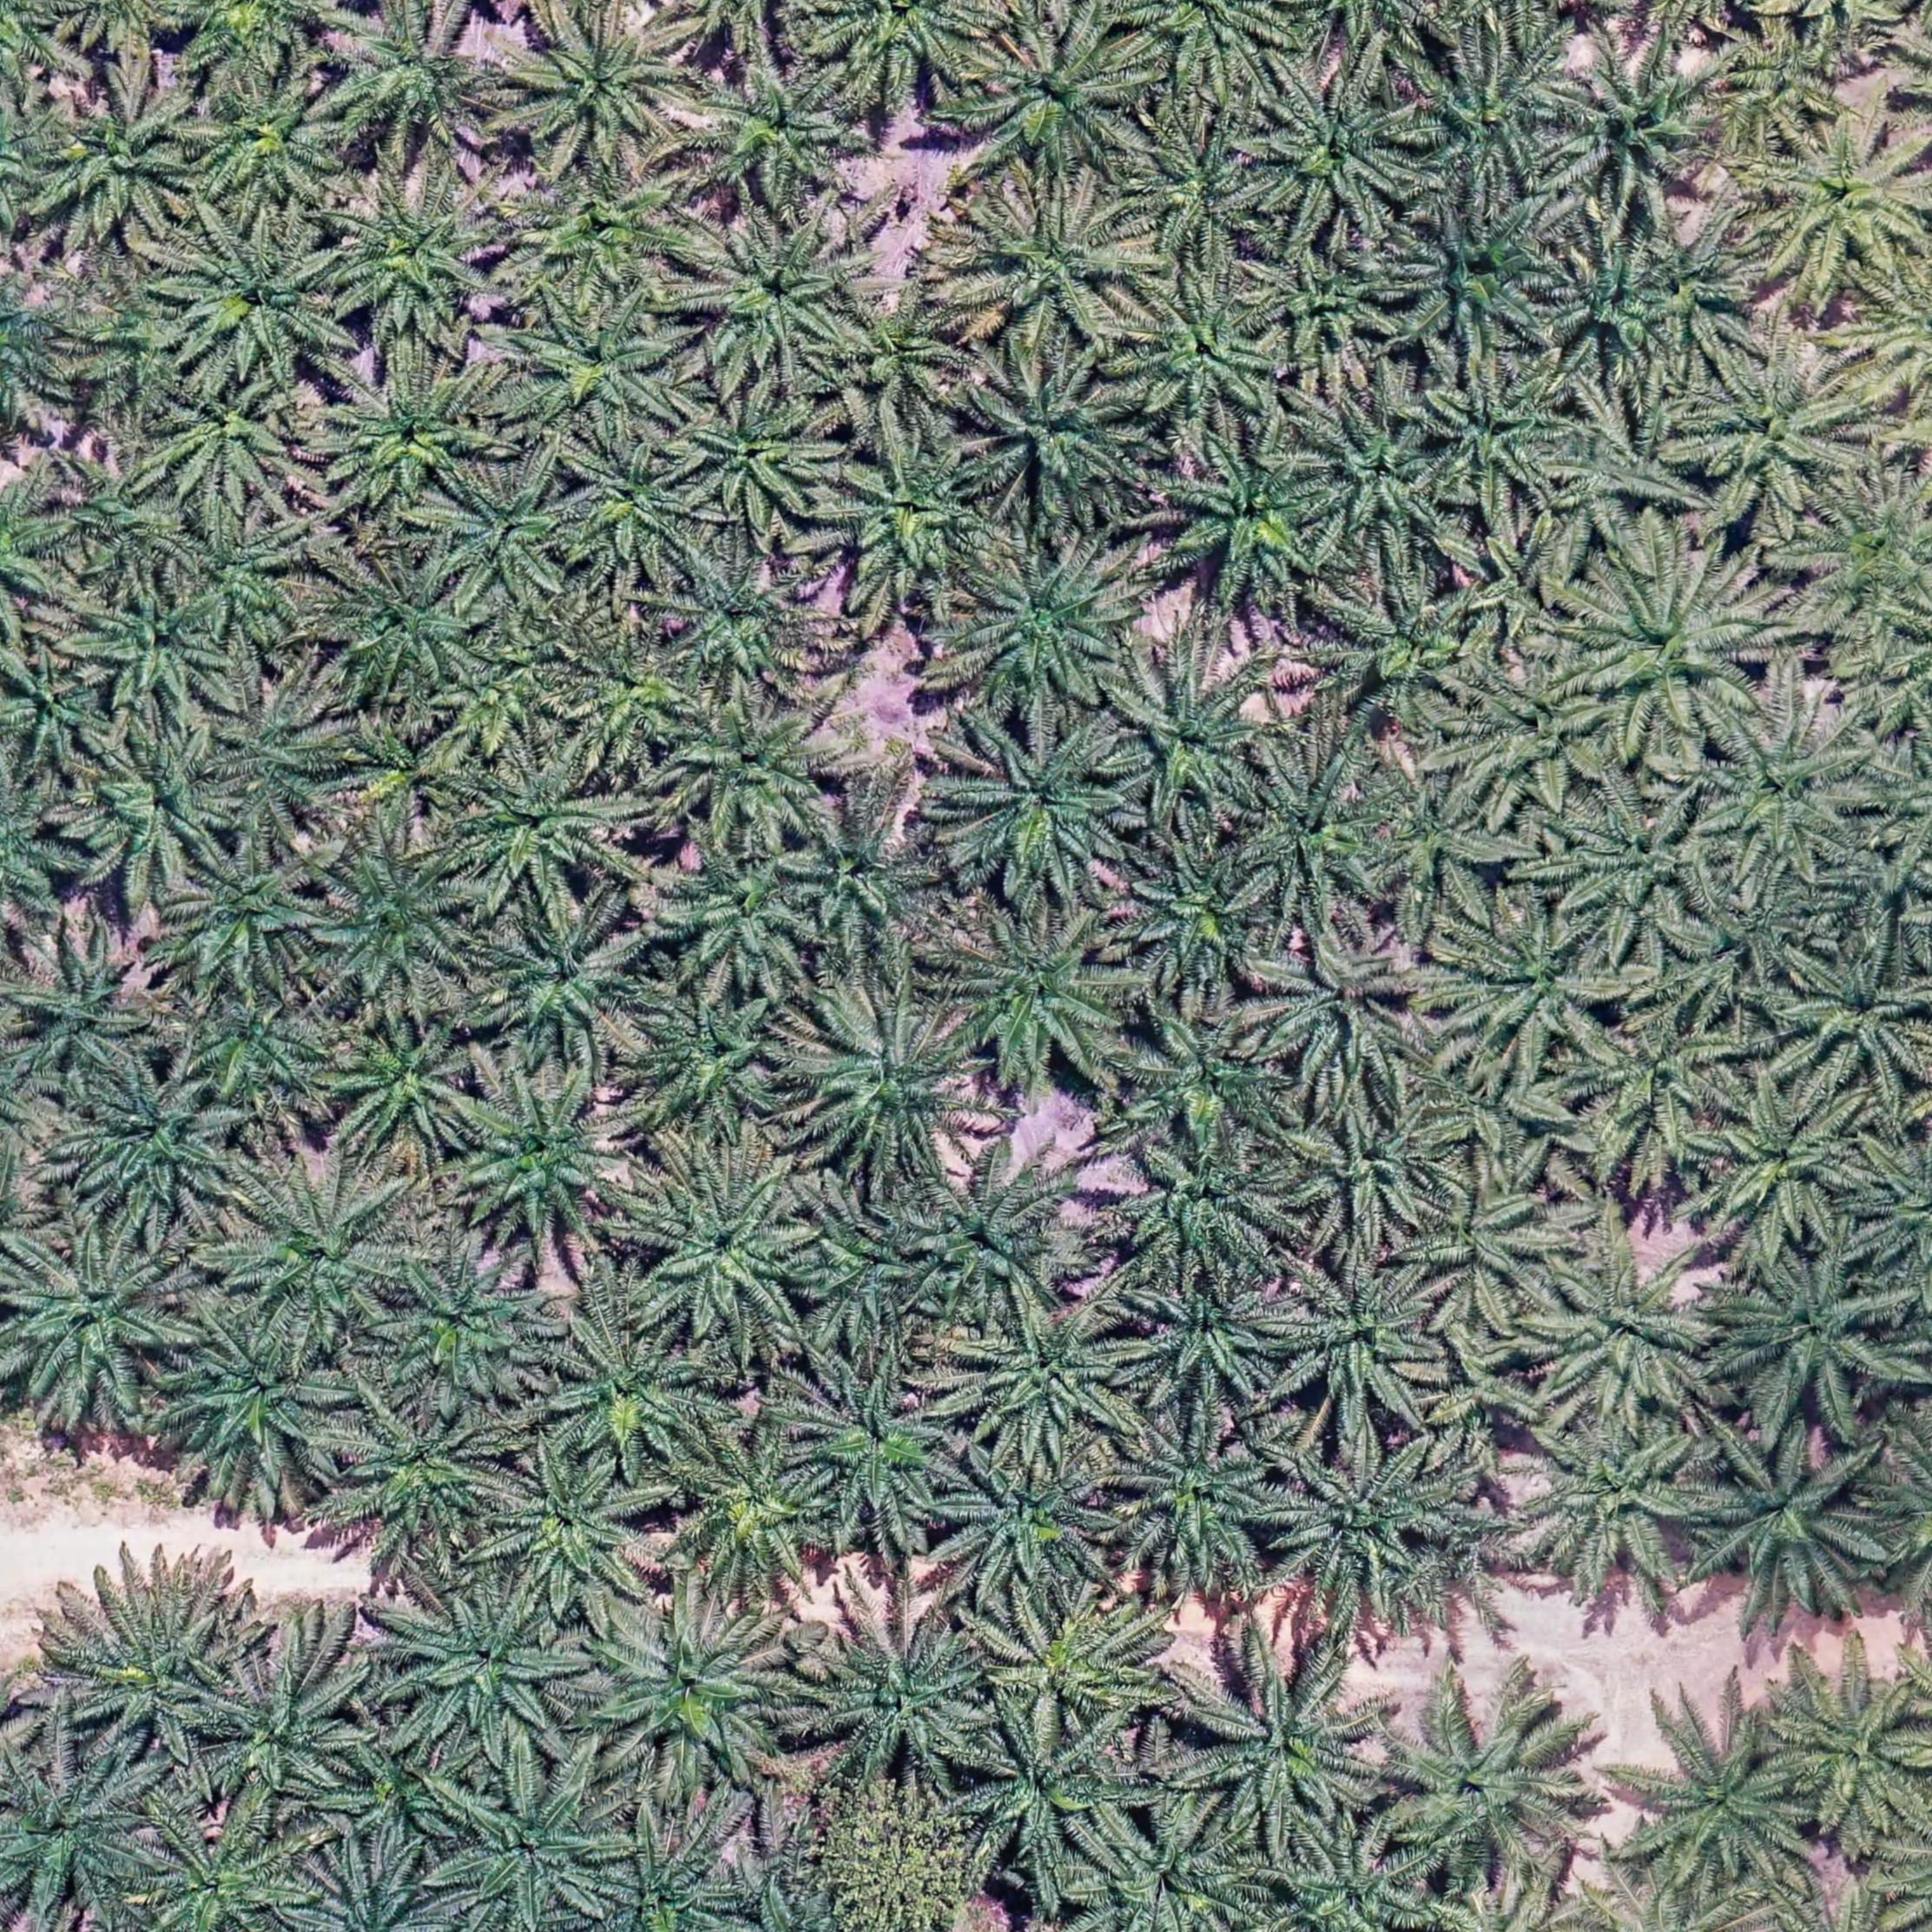palmtree: (1679, 1419, 1897, 1629), (1378, 1686, 1596, 1890), (1569, 547, 1783, 752), (586, 1591, 800, 1794), (1178, 1637, 1387, 1844), (1265, 1431, 1481, 1629), (1507, 1407, 1725, 1601), (1522, 1235, 1725, 1435), (1614, 1706, 1819, 1902), (1707, 1249, 1913, 1438), (628, 1157, 826, 1350), (941, 717, 1145, 902), (221, 1161, 421, 1348), (893, 1152, 1093, 1338), (4, 1228, 198, 1417), (789, 989, 984, 1178), (798, 1603, 994, 1790), (389, 1583, 593, 1764), (161, 1313, 359, 1497), (950, 901, 1143, 1088), (1688, 341, 1877, 527), (1560, 989, 1746, 1178), (1104, 1408, 1297, 1591), (787, 1355, 971, 1545), (957, 538, 1150, 718), (1698, 695, 1884, 881), (504, 143, 709, 311), (451, 1070, 642, 1251), (957, 188, 1155, 361), (1748, 113, 1932, 299), (163, 212, 352, 393), (1543, 37, 1732, 218), (959, 1713, 1157, 1882), (814, 432, 1000, 610), (1435, 902, 1626, 1076), (1102, 1122, 1302, 1286), (1272, 1258, 1456, 1437), (1157, 433, 1343, 610), (327, 168, 515, 343), (685, 211, 872, 384), (1387, 196, 1575, 370), (511, 7, 708, 172), (1253, 60, 1435, 237), (964, 14, 1152, 186), (65, 1578, 244, 1757), (311, 837, 490, 1014), (1700, 1076, 1879, 1253), (472, 892, 653, 1067), (968, 350, 1152, 522), (955, 1299, 1145, 1465), (495, 285, 688, 448), (1231, 743, 1405, 924), (73, 724, 253, 897), (660, 686, 847, 853), (1102, 653, 1281, 826), (663, 1426, 844, 1596), (941, 1444, 1131, 1605), (1295, 400, 1470, 573), (324, 354, 508, 518), (327, 4, 515, 165), (1260, 929, 1431, 1104), (1313, 568, 1491, 736), (628, 982, 812, 1145), (37, 67, 209, 241), (1116, 269, 1292, 439), (375, 1244, 556, 1408), (444, 1762, 625, 1927), (60, 1067, 242, 1230), (1445, 648, 1617, 819), (1403, 1162, 1576, 1332), (1401, 37, 1582, 200), (688, 50, 870, 211), (1769, 1656, 1932, 1835), (541, 1318, 722, 1479), (485, 1447, 662, 1610), (1283, 1088, 1463, 1247), (455, 748, 633, 906), (982, 1594, 1168, 1744), (1552, 786, 1711, 961), (338, 1399, 515, 1557), (651, 835, 828, 993), (165, 832, 334, 994), (1116, 1000, 1293, 1155), (1357, 764, 1522, 929), (1116, 832, 1284, 993), (787, 796, 952, 959), (205, 1651, 375, 1808), (11, 934, 173, 1097), (0, 1757, 161, 1921), (186, 64, 357, 218), (1417, 356, 1583, 513), (672, 380, 844, 533), (1120, 1267, 1297, 1412), (1072, 1805, 1272, 1932), (329, 1010, 494, 1162), (71, 579, 239, 727), (665, 545, 830, 695), (1244, 235, 1408, 386), (1782, 939, 1932, 1102), (324, 550, 492, 695), (1122, 117, 1279, 269), (1796, 485, 1932, 660), (1537, 235, 1690, 389), (563, 437, 715, 587), (435, 462, 589, 610), (150, 372, 310, 515), (216, 674, 357, 835), (1560, 398, 1718, 541), (798, 1200, 941, 1350), (828, 285, 977, 426), (173, 989, 333, 1118), (561, 628, 706, 768), (180, 517, 326, 653), (329, 1734, 479, 1865), (1261, 1829, 1453, 1932), (809, 0, 1000, 101), (142, 1819, 310, 1932), (1679, 874, 1826, 1003), (439, 625, 586, 754), (1714, 18, 1856, 150), (1453, 513, 1589, 649), (71, 287, 205, 418), (1118, 0, 1297, 97), (57, 448, 189, 577), (341, 713, 476, 835), (584, 1836, 750, 1932), (0, 651, 113, 782), (165, 0, 345, 81)
